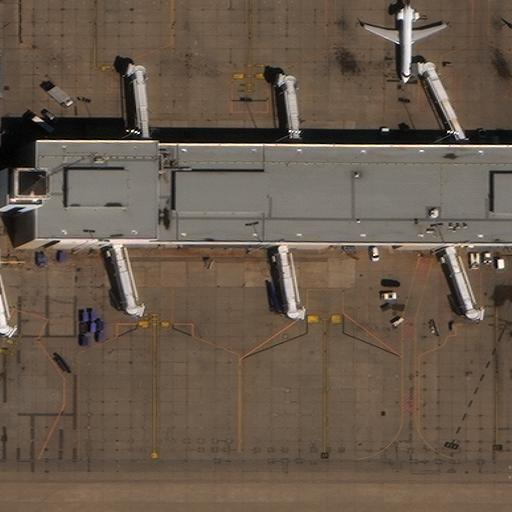Medium Civil Transport: (365, 0, 446, 83)
